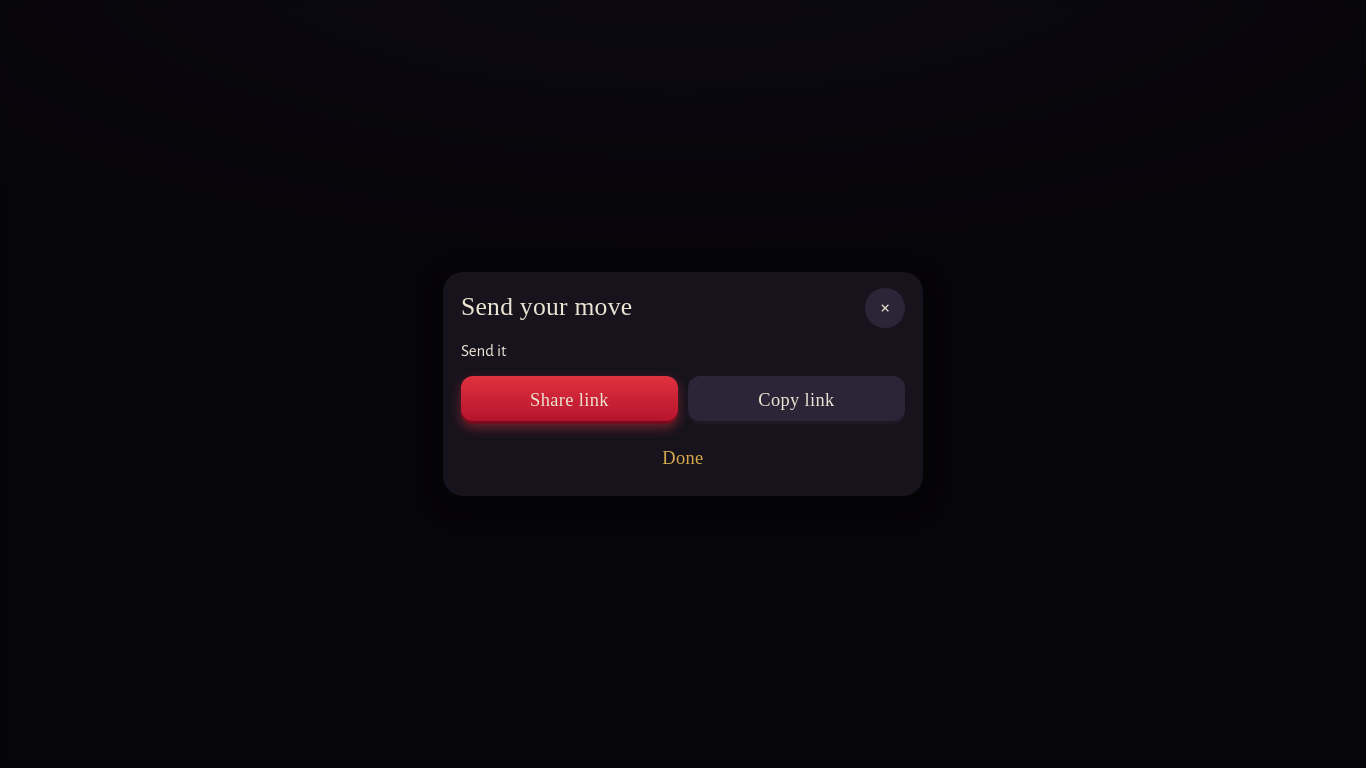
Test: ShareMoveSheet › asks for a manual copy when nothing is available
This screenshot has width=1366, height=768.
Click the button "Share link".
click(570, 400)  # box [461,376,678,424]
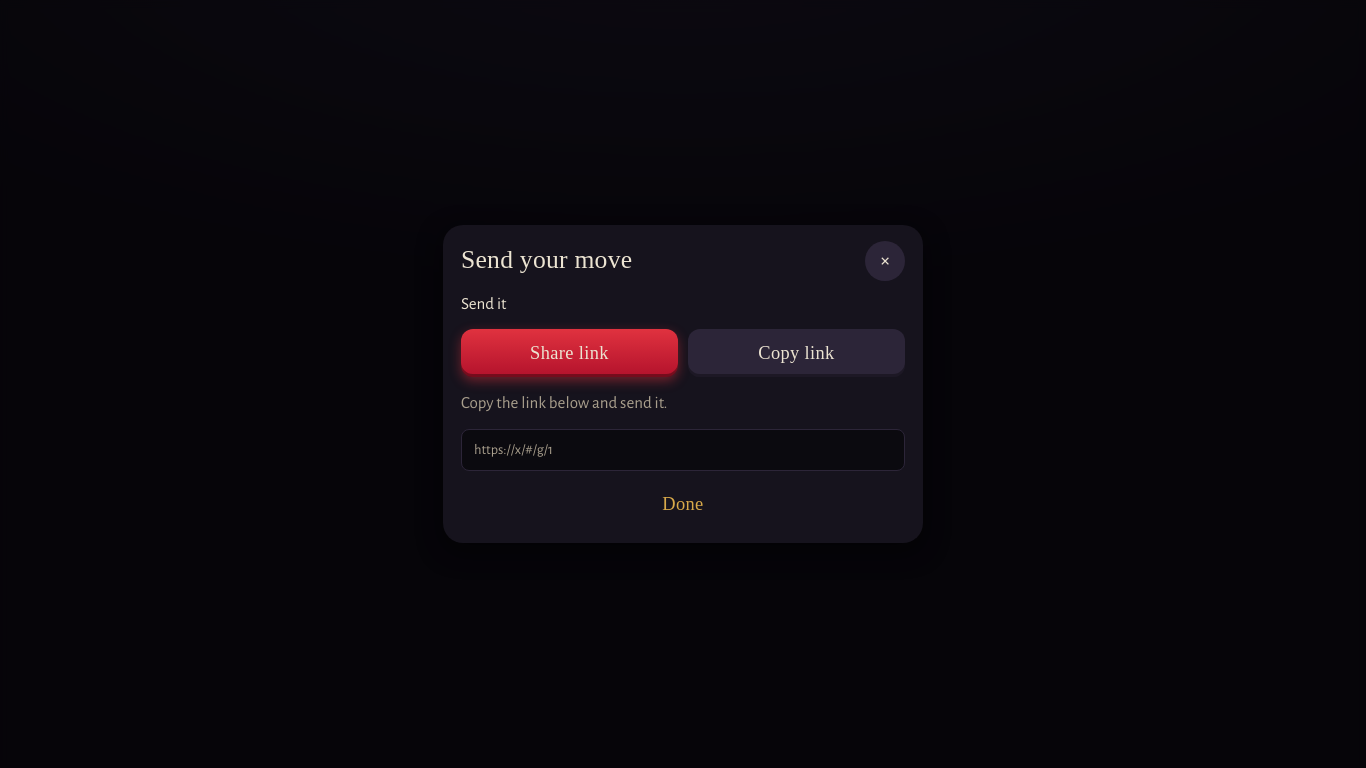
Check: the message shows "Copy the link below", box [461,394,668,411]
Check: the field named "Game link" is shown, box [461,429,905,471]
